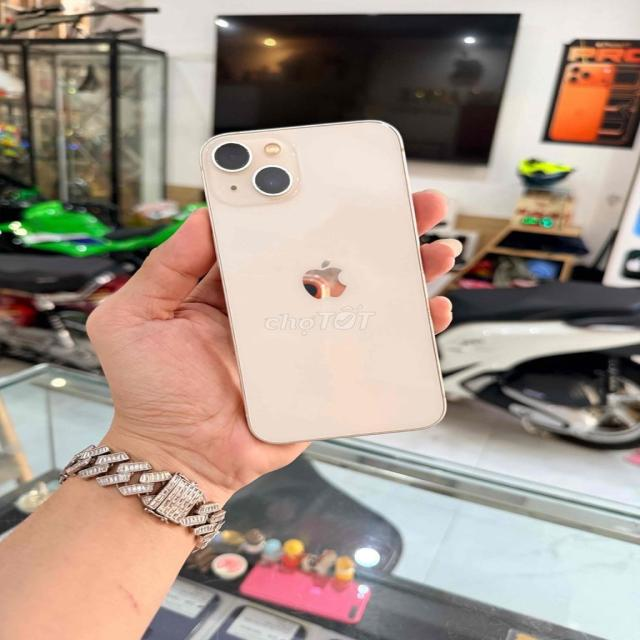gen_12_13: (198, 116, 444, 446)
